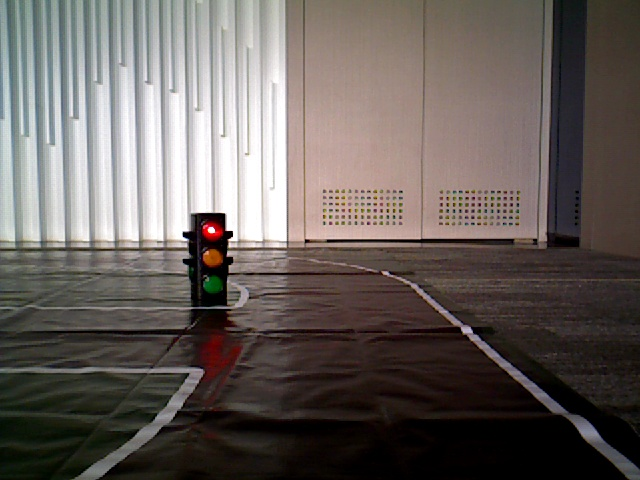red: (193, 216, 224, 301)
